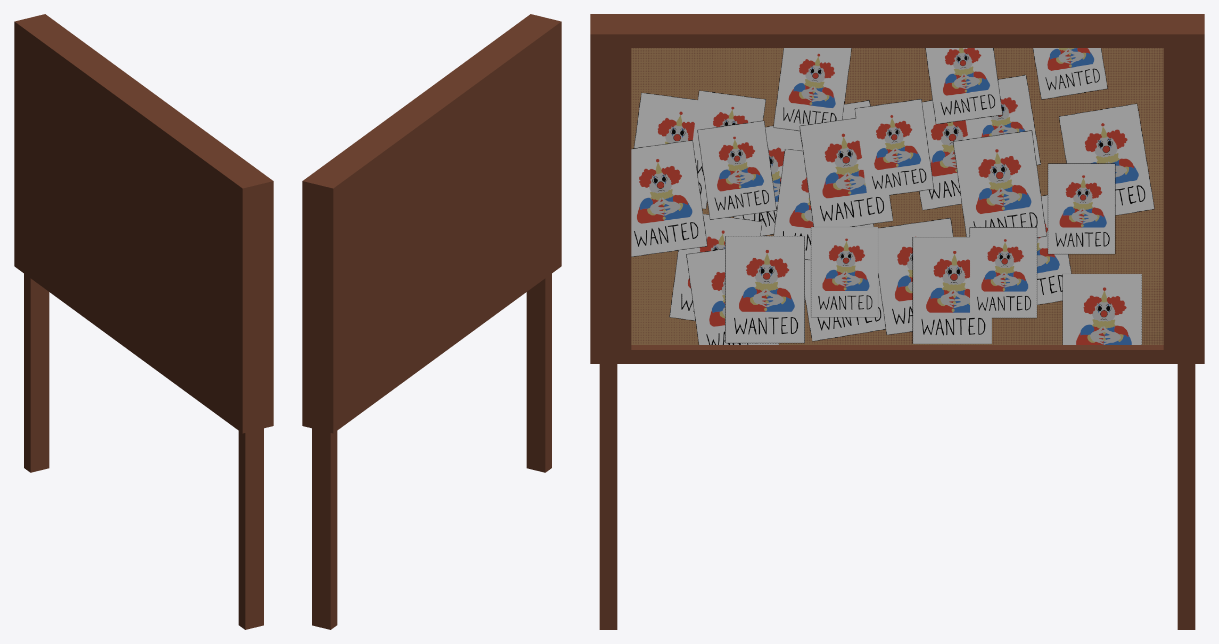
The model's file is WantedBulletin.glb.
The picture shows the model from 3 angles, left to right: view 1: azimuth 30°, elevation 25°; view 2: azimuth 150°, elevation 25°; view 3: azimuth 270°, elevation 25°; orthographic projection. The views are drawn at different scales.
Visible parts, largest first — view 1: Cube; view 2: Cube; view 3: Cube.
Part boxes in pixels (x1=…): Cube: x1=14, y1=14, x2=273, y2=629; Cube: x1=302, y1=14, x2=561, y2=629; Cube: x1=590, y1=14, x2=1204, y2=629.
Bounding box in the file's own units: 0.2632 × 3.64 × 3.38.
Materials: 2 (1 with a texture image).
